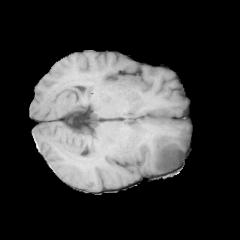glioma: (149, 134, 186, 173)
